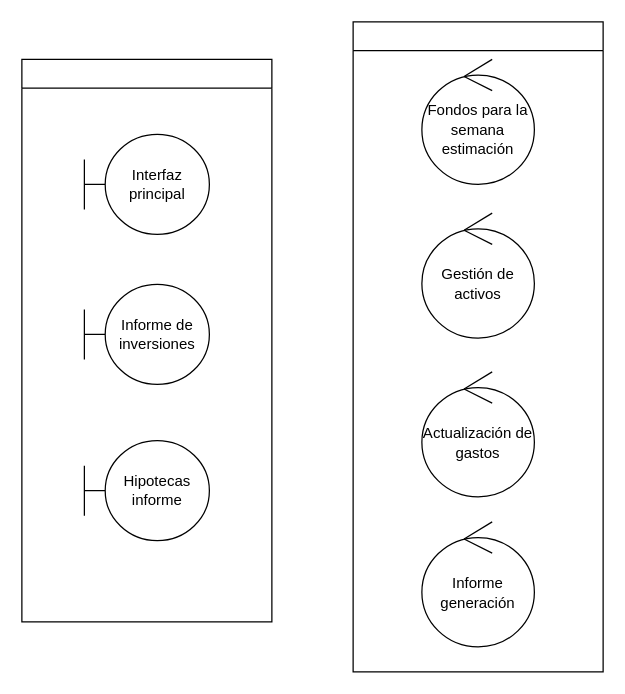
Some shapes in this 625 by 694 pixel diagram are drawn without their labels. Each missing label, with the box of its shape:
Clases de control: (352, 21, 603, 672)
Clases límite: (21, 58, 272, 622)
